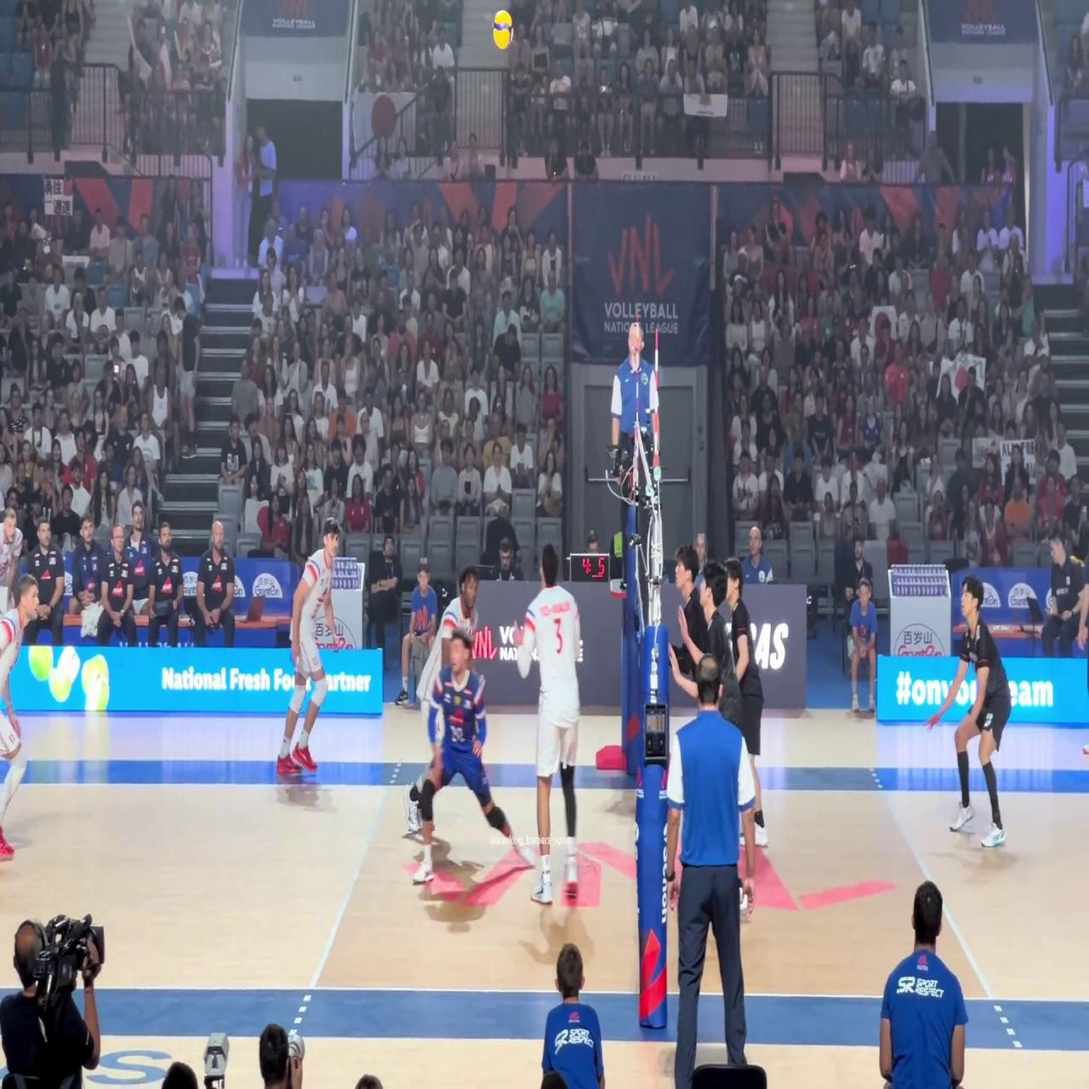ball: (492, 9, 514, 50)
